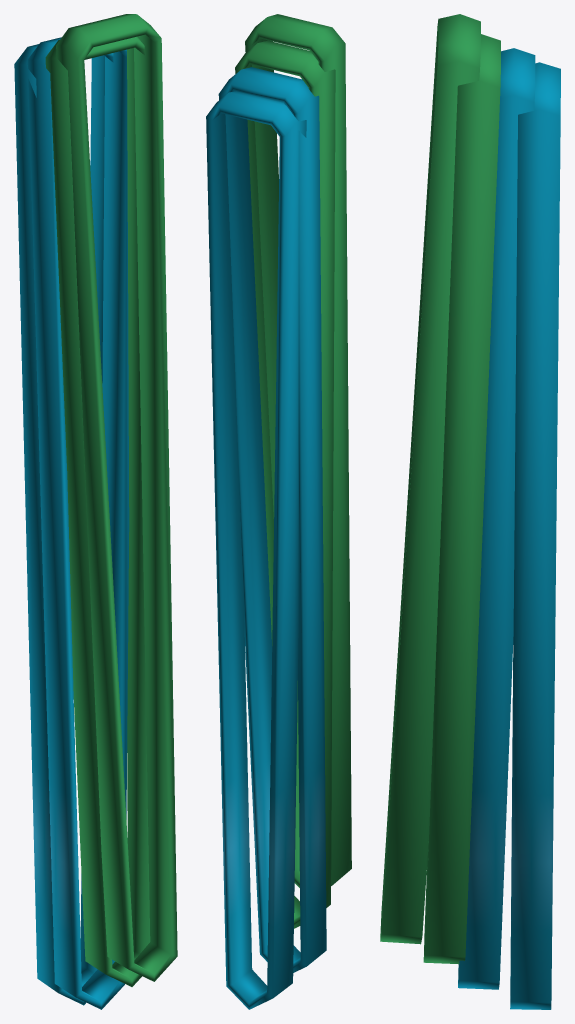
Rendered from band_2.glb.
3 views of the same model, side by side, from view 1: azimuth 30°, elevation 25°; view 2: azimuth 150°, elevation 25°; view 3: azimuth 270°, elevation 25° (orthographic). The views are drawn at different scales.
Parts seen in each view (by area): view 1: GymEquipments_14; view 2: GymEquipments_14; view 3: GymEquipments_14.
Part boxes in pixels (x1=…): GymEquipments_14: x1=14, y1=14, x2=177, y2=1009; GymEquipments_14: x1=206, y1=14, x2=351, y2=1009; GymEquipments_14: x1=380, y1=14, x2=560, y2=1009.
Bounding box in the file's own units: 0.0366 × 0.4168 × 0.0695.
Materials: 1 (1 with a texture image).
